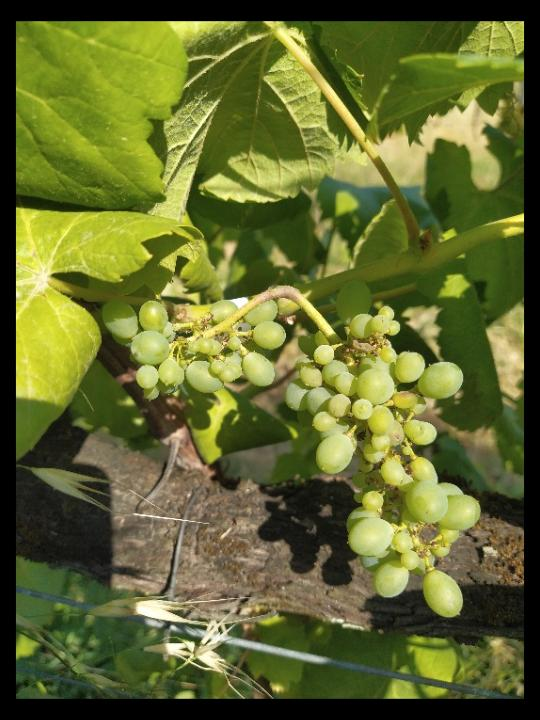grape: (97, 276, 491, 622)
